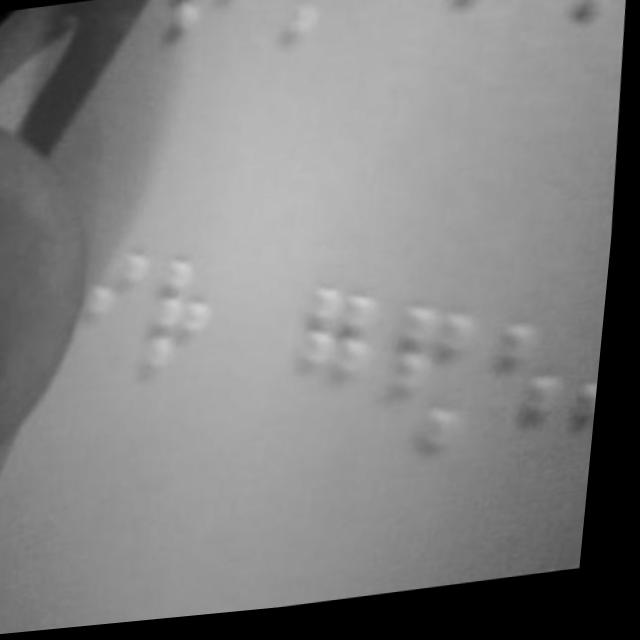braiile: (381, 291, 495, 474), (488, 327, 586, 502), (298, 286, 390, 443), (142, 244, 236, 388), (525, 0, 616, 95), (439, 0, 526, 76), (124, 0, 213, 56), (209, 0, 283, 62)
